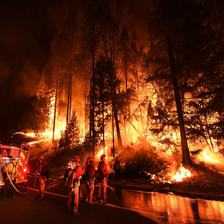fire: (112, 73, 216, 186), (8, 76, 100, 149)
